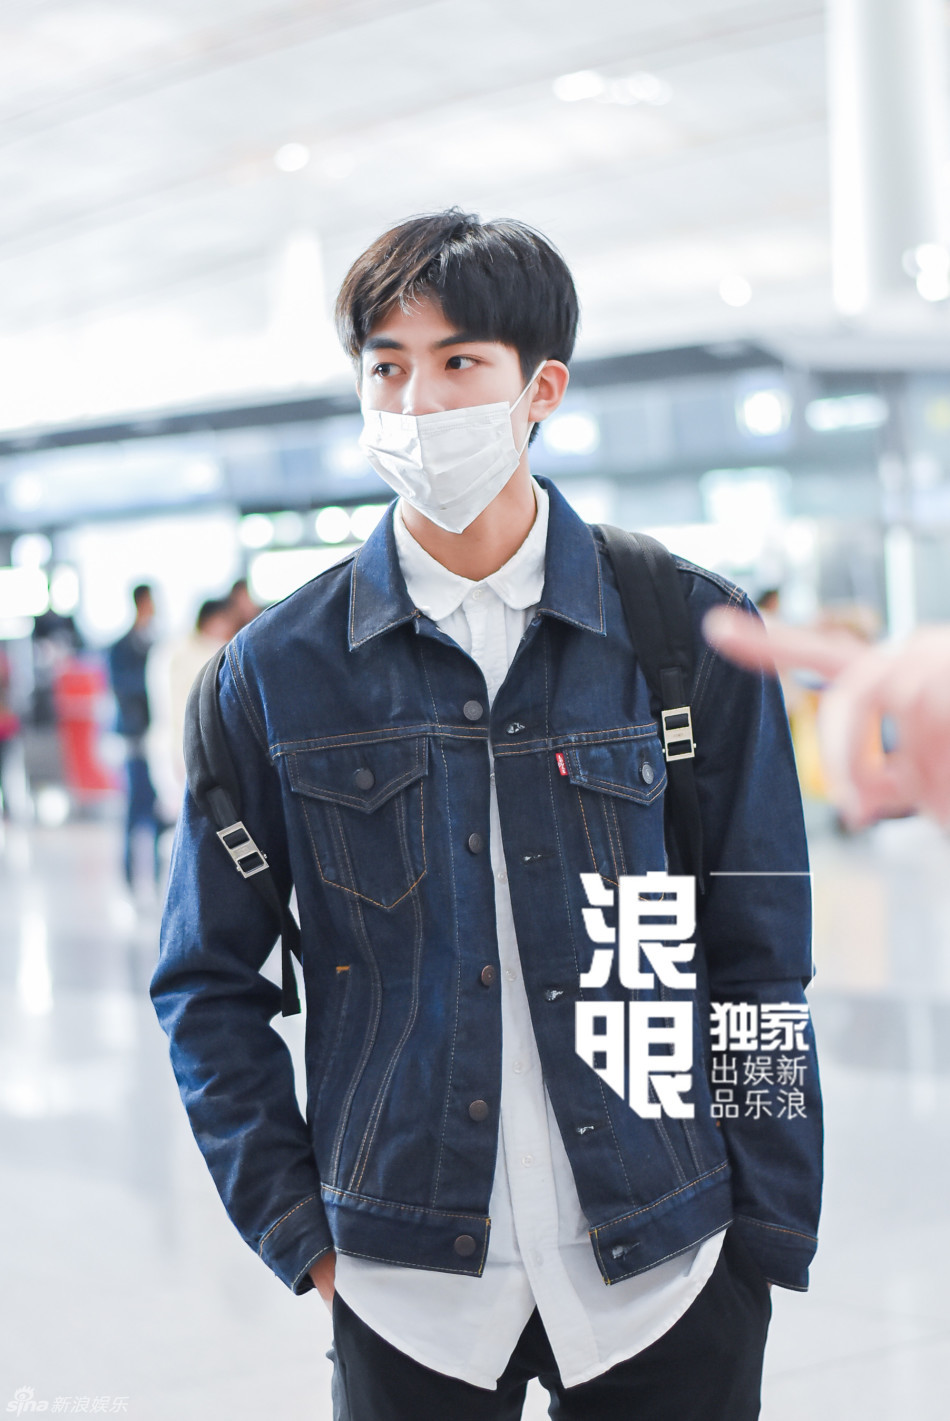face_mask: (369, 271, 521, 527)
